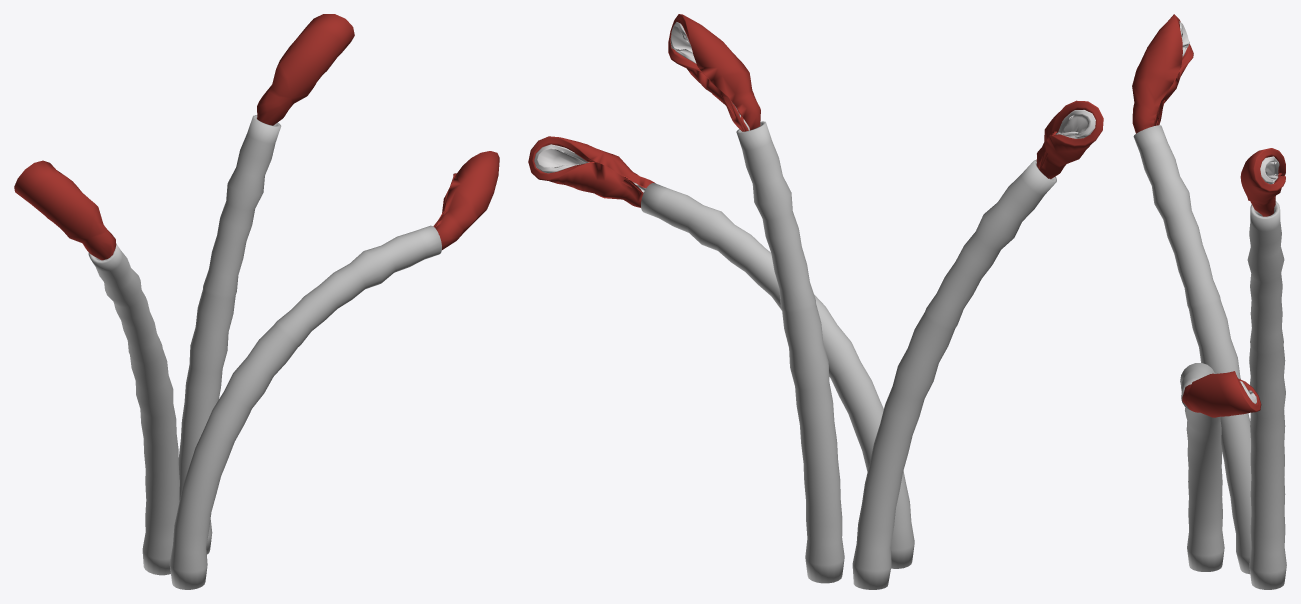
Rendered from Tube Worms.gltf.
The picture shows the model from 3 angles, left to right: view 1: azimuth 30°, elevation 25°; view 2: azimuth 150°, elevation 25°; view 3: azimuth 270°, elevation 25°; orthographic projection. The views are drawn at different scales.
Parts seen in each view (by area): view 1: Tube002, Tube001, Tube003, Cylinder001, Cylinder005, Cylinder003; view 2: Tube001, Tube003, Tube002, Cylinder001, Cylinder003, Cylinder005, Cylinder004, Cylinder006; view 3: Tube001, Tube003, Tube002, Cylinder005, Cylinder003, Cylinder001, Cylinder002.
Boxes of the visible parts, <box> form: Tube002: <box>169,225,441,589</box>; Tube001: <box>178,115,281,554</box>; Tube003: <box>88,244,179,575</box>; Cylinder001: <box>257,14,354,125</box>; Cylinder005: <box>14,160,116,260</box>; Cylinder003: <box>433,151,499,249</box>; Tube001: <box>736,121,844,583</box>; Tube003: <box>852,160,1056,589</box>; Tube002: <box>641,183,914,568</box>; Cylinder001: <box>668,14,760,131</box>; Cylinder003: <box>528,136,655,207</box>; Cylinder005: <box>1036,100,1103,178</box>; Cylinder004: <box>534,144,645,192</box>; Cylinder006: <box>1055,110,1095,138</box>; Tube001: <box>1247,201,1286,589</box>; Tube003: <box>1133,125,1251,574</box>; Tube002: <box>1180,363,1224,571</box>; Cylinder005: <box>1132,14,1193,133</box>; Cylinder003: <box>1182,371,1261,417</box>; Cylinder001: <box>1240,148,1285,216</box>; Cylinder002: <box>1260,156,1279,184</box>.
Bounding box in the file's own units: 7.19 × 6.75 × 1.88.
